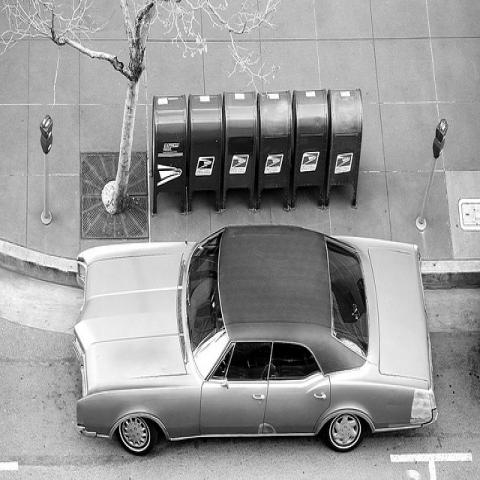car: (73, 223, 432, 464)
